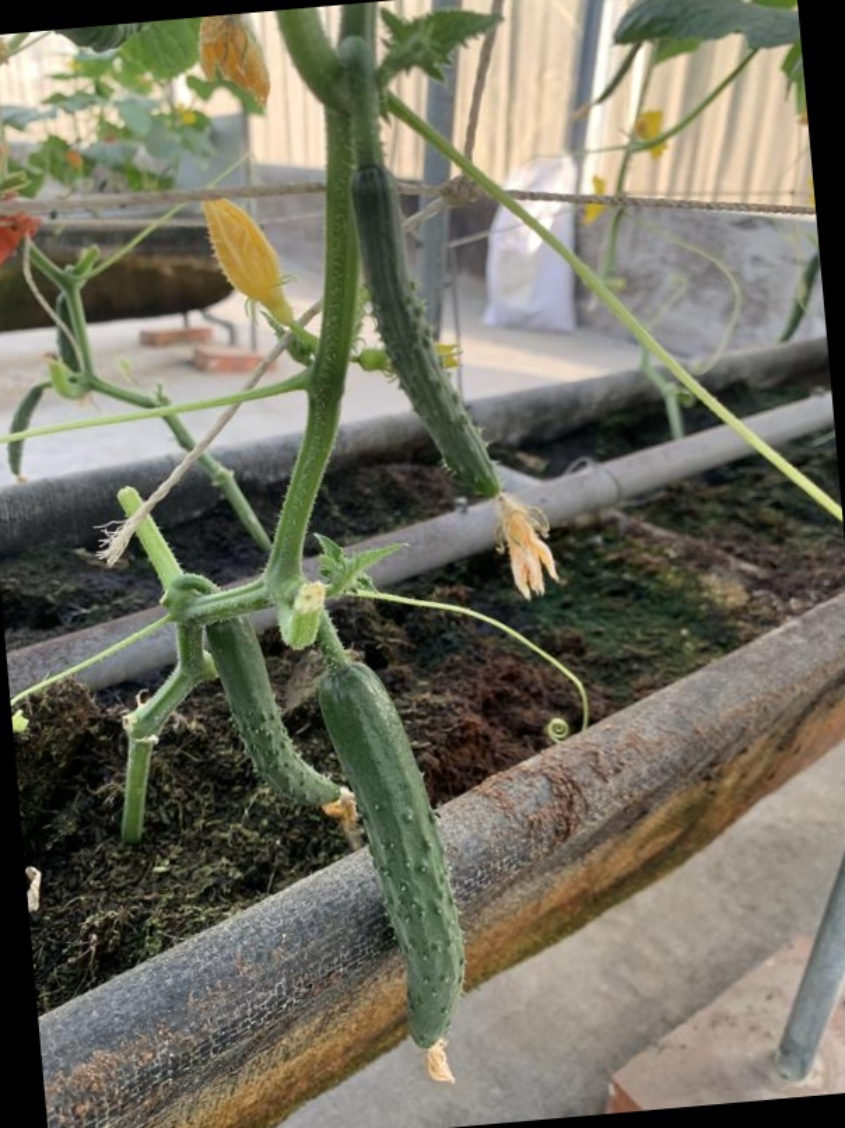growth: (354, 152, 511, 512)
mature: (318, 662, 471, 1063)
